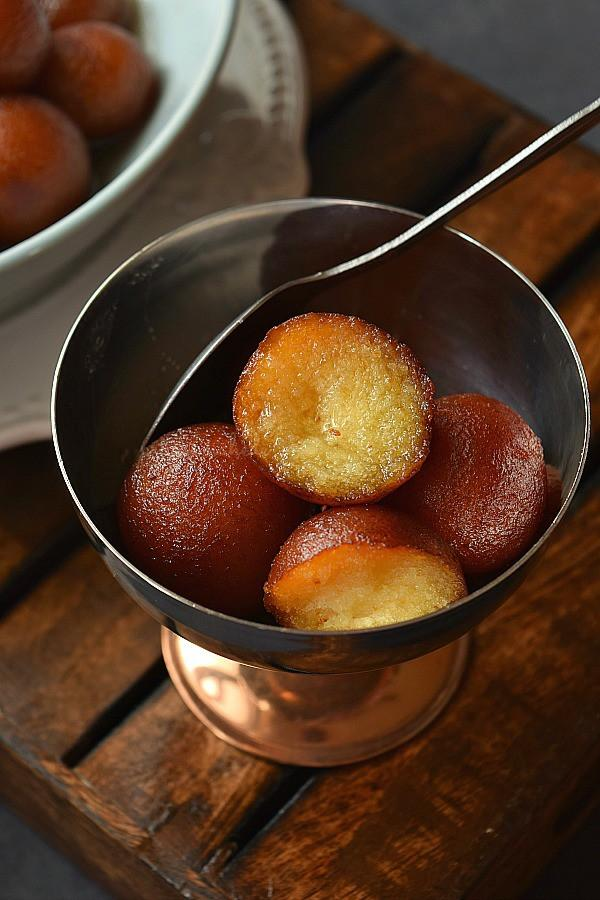GulabJamun: (236, 310, 425, 501), (401, 387, 548, 573), (126, 432, 288, 588), (253, 508, 465, 620)
